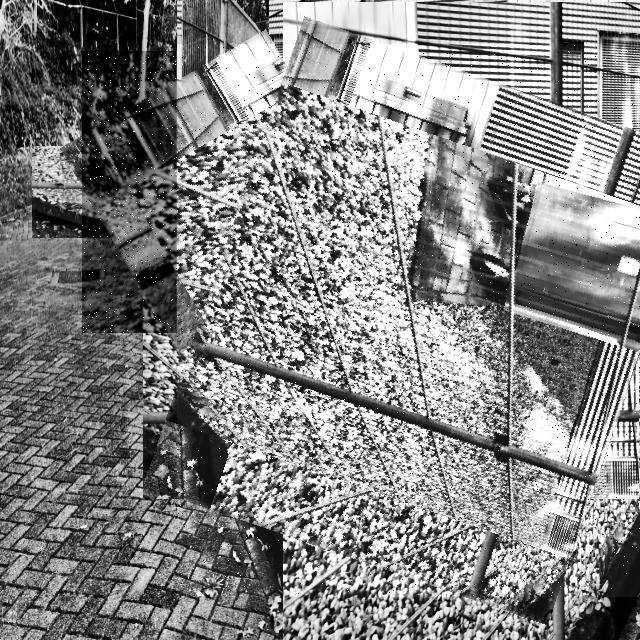fences: (177, 44, 640, 597), (82, 51, 364, 333)
